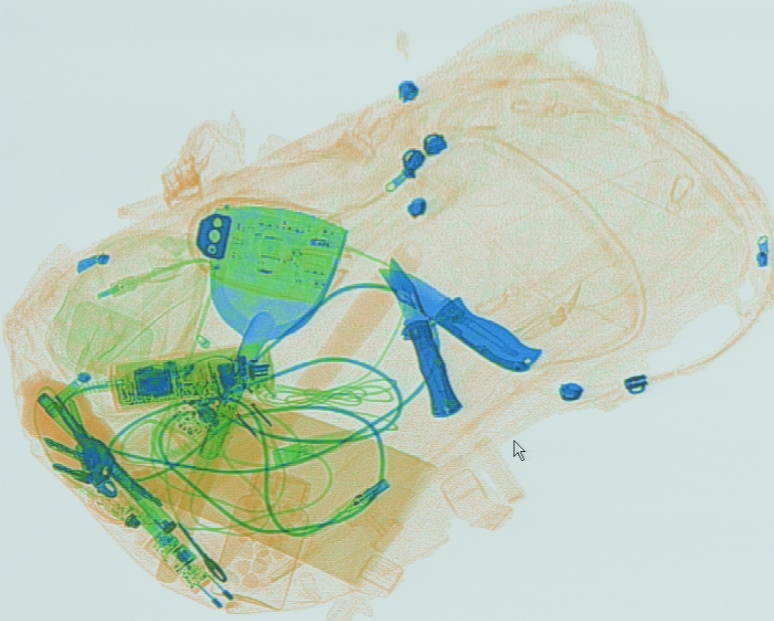knife: (376, 266, 542, 372), (385, 253, 461, 419)
